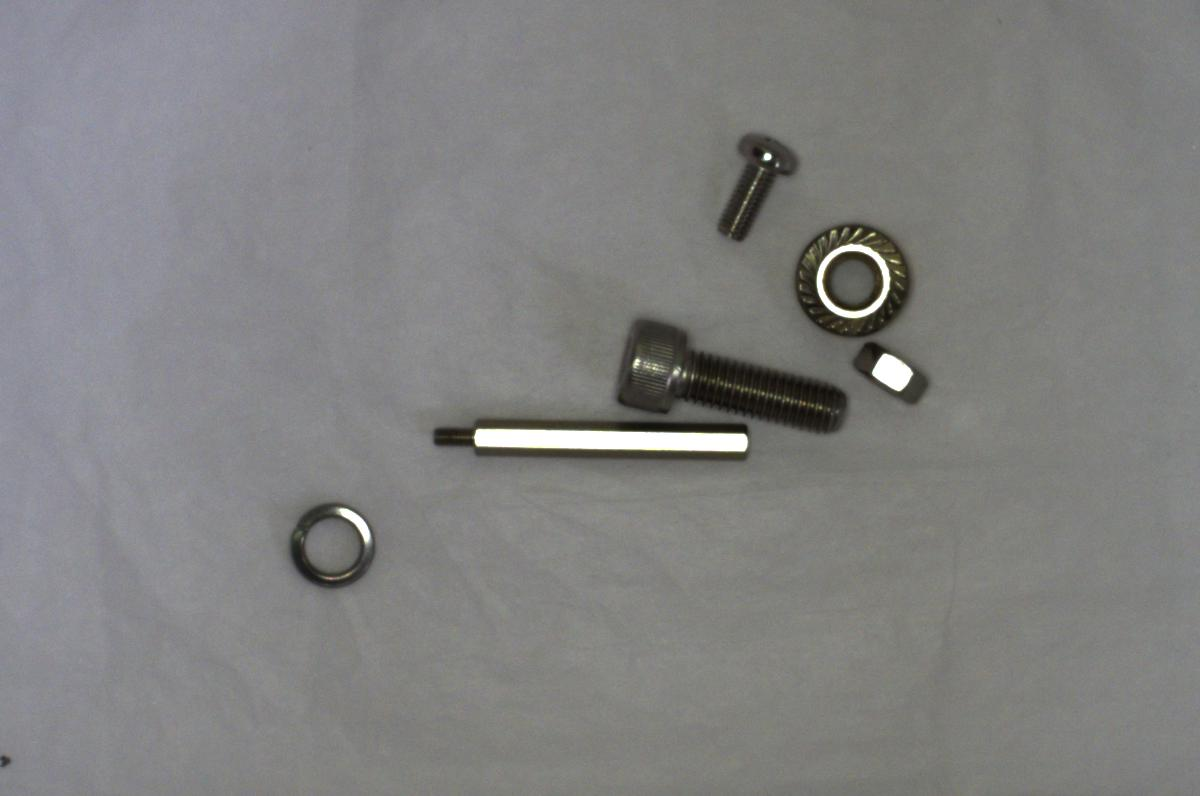Flange nut: (793, 209, 921, 341)
Hexagon nut: (846, 340, 928, 410)
Hexagon screw: (612, 306, 848, 436)
Hexagonal steel column: (421, 406, 759, 466)
Round head screw: (698, 126, 794, 243)
Spring washer: (282, 492, 387, 594)
